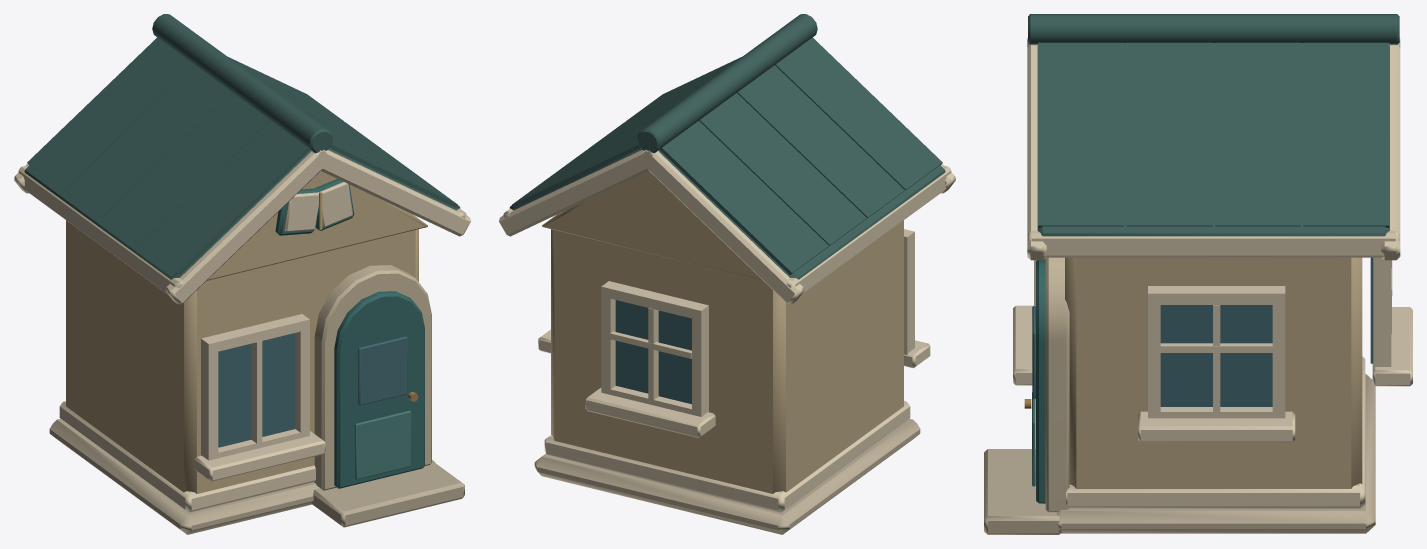
The model's file is bookshop_level_1.glb.
3 renders of one model, left to right at view 1: azimuth 30°, elevation 25°; view 2: azimuth 150°, elevation 25°; view 3: azimuth 270°, elevation 25°, orthographic. The views are drawn at different scales.
Visible parts, largest first — view 1: bookshop_level_1_runtime; view 2: bookshop_level_1_runtime; view 3: bookshop_level_1_runtime.
Boxes of the visible parts, <box> form: bookshop_level_1_runtime: <box>14,14,470,534</box>; bookshop_level_1_runtime: <box>499,14,955,534</box>; bookshop_level_1_runtime: <box>984,14,1412,534</box>.
Size of the model in its own units: 2.76 by 3.34 by 2.89.
